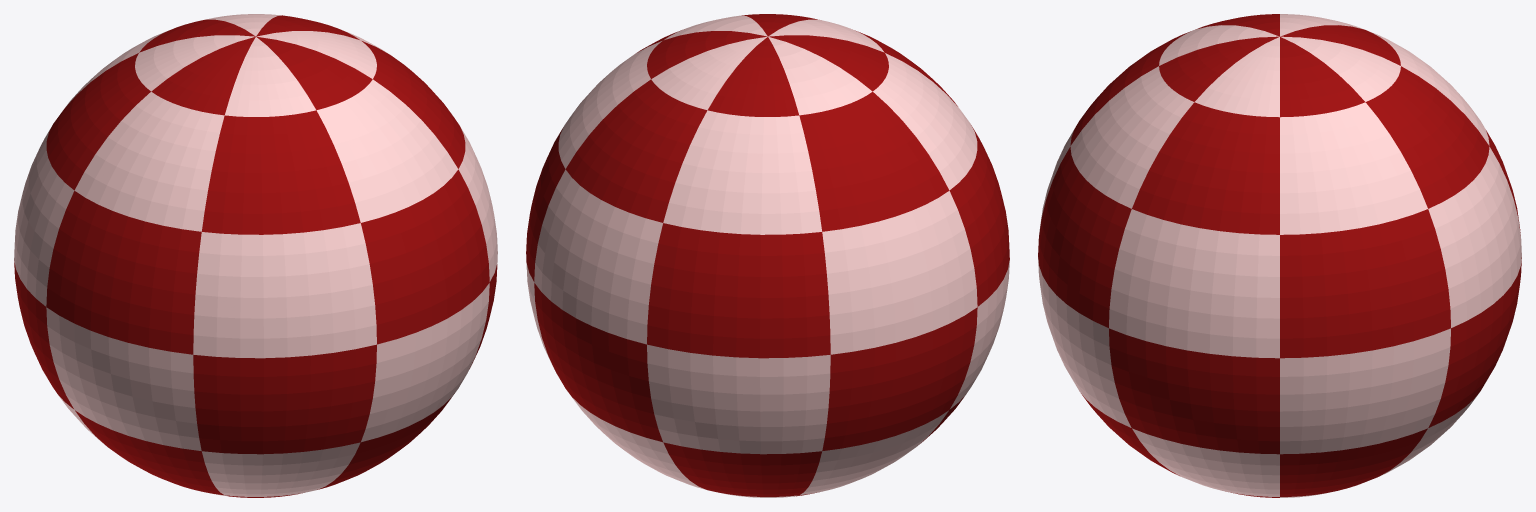
Rendered from boingball.obj.
3 views of the same model, side by side, from view 1: azimuth 30°, elevation 25°; view 2: azimuth 150°, elevation 25°; view 3: azimuth 270°, elevation 25° (orthographic).
Visible parts, largest first — view 1: red_faces, white_faces; view 2: white_faces, red_faces; view 3: red_faces, white_faces.
Boxes of the visible parts, box(x1,y1,x2,y2) form: red_faces: box(14, 15, 497, 497); white_faces: box(14, 14, 497, 496); white_faces: box(526, 15, 1009, 497); red_faces: box(526, 14, 1009, 496); red_faces: box(1038, 14, 1521, 497); white_faces: box(1038, 14, 1521, 497).
Size of the model in its own units: 2 by 2 by 2.
